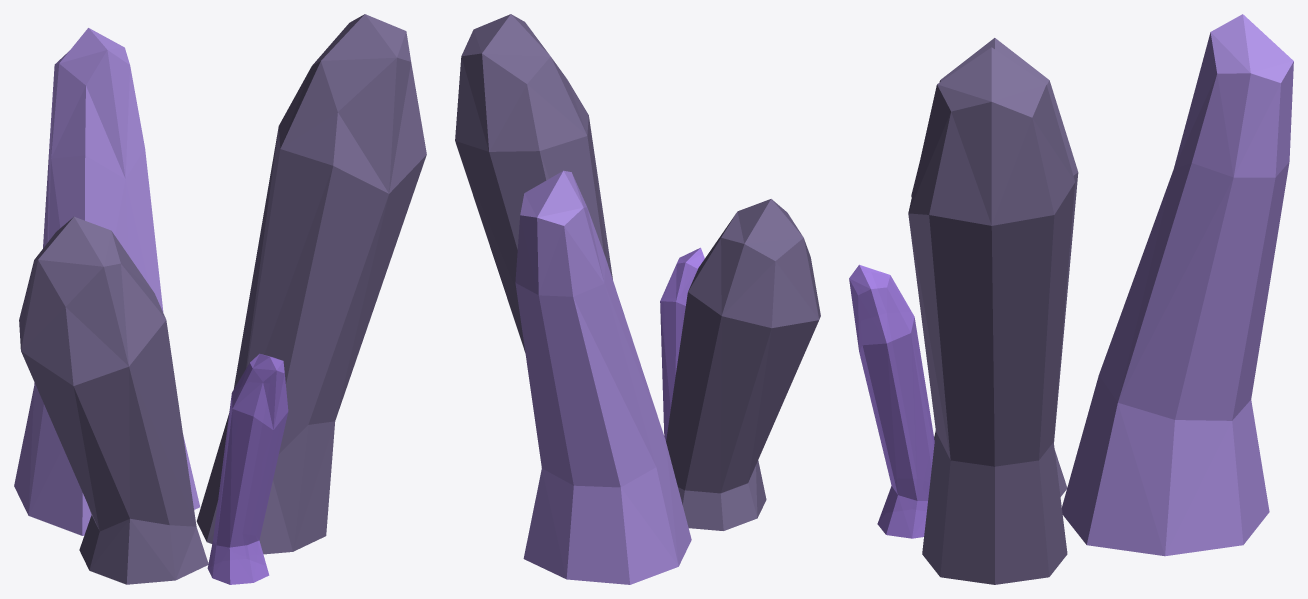
Rendered from Crystal_purple_small.fbx.
3 views of the same model, side by side, from view 1: azimuth 30°, elevation 25°; view 2: azimuth 150°, elevation 25°; view 3: azimuth 270°, elevation 25° (orthographic). The views are drawn at different scales.
Parts seen in each view (by area): view 1: prop_crystal_purple_small; view 2: prop_crystal_purple_small; view 3: prop_crystal_purple_small.
Boxes of the visible parts, <box> form: prop_crystal_purple_small: <box>14,14,426,584</box>; prop_crystal_purple_small: <box>455,14,820,584</box>; prop_crystal_purple_small: <box>849,14,1293,584</box>.
Size of the model in its own units: 21.02 by 25.2 by 17.92.
